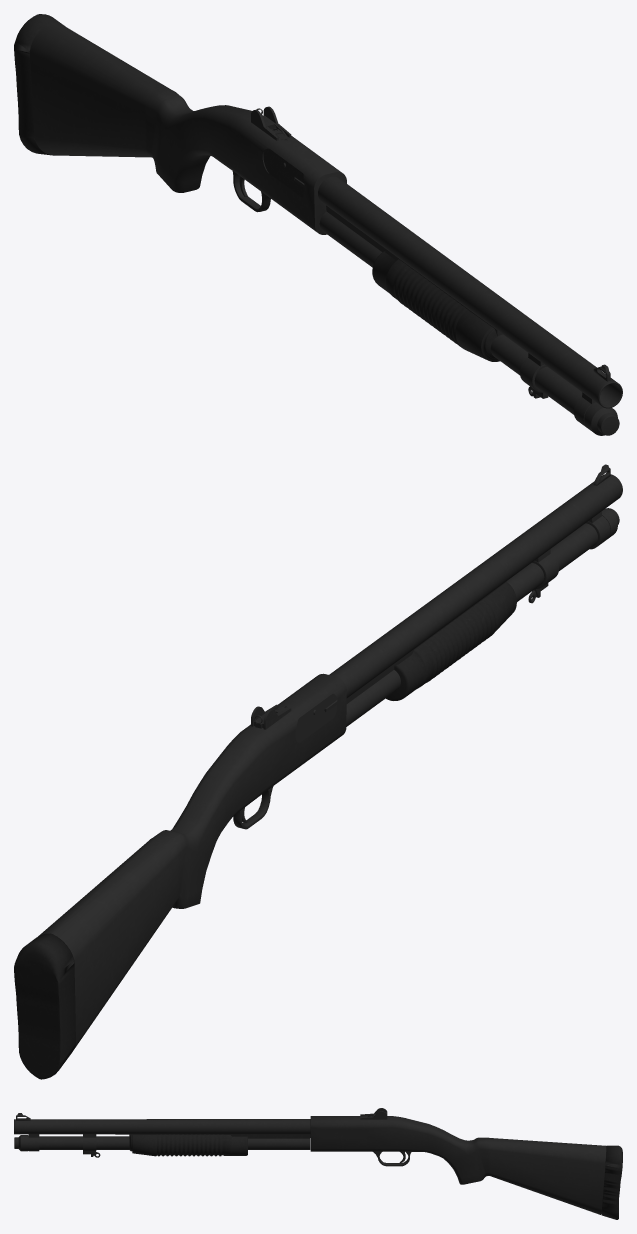
3 views of the same model, one above another, from view 1: azimuth 30°, elevation 25°; view 2: azimuth 150°, elevation 25°; view 3: azimuth 270°, elevation 25° (orthographic). The views are drawn at different scales.
Visible parts, largest first — view 1: Hendle.001, Barrel, Reload, Hendle.002, Reload.001, Ironsight; view 2: Hendle.001, Barrel, Hendle.002, Reload, Reload.001; view 3: Hendle.001, Barrel, Reload, Hendle.002, Ironsight, TriggerSurround.
Boxes of the visible parts, box(x1,y1,x2,y2) form: Hendle.001: box(29, 22, 346, 234); Barrel: box(318, 176, 622, 435); Reload: box(372, 250, 499, 361); Hendle.002: box(14, 14, 65, 155); Reload.001: box(263, 148, 304, 197); Ironsight: box(251, 106, 291, 142); Hendle.001: box(38, 673, 346, 1049); Barrel: box(329, 474, 622, 726); Hendle.002: box(14, 933, 75, 1079); Reload: box(386, 582, 516, 700); Reload.001: box(295, 693, 337, 742); Hendle.001: box(310, 1116, 606, 1214); Barrel: box(14, 1119, 310, 1156); Reload: box(129, 1134, 247, 1156); Hendle.002: box(601, 1145, 622, 1219); Ironsight: box(355, 1108, 387, 1119); TriggerSurround: box(373, 1151, 411, 1166).
Size of the model in its own units: 0.6223 by 2.75 by 13.82.
3 materials, 3 textured.
